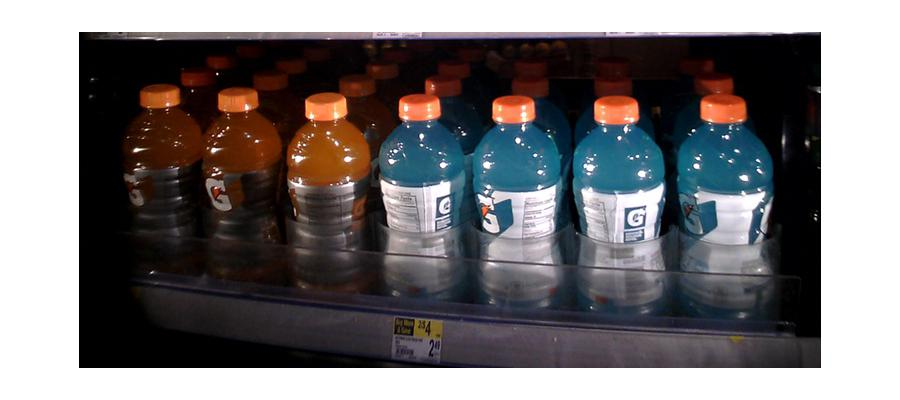bottle: (573, 93, 671, 322), (679, 101, 775, 330), (473, 99, 567, 318), (378, 96, 467, 312), (286, 95, 366, 297), (201, 88, 277, 288), (123, 84, 196, 278)
